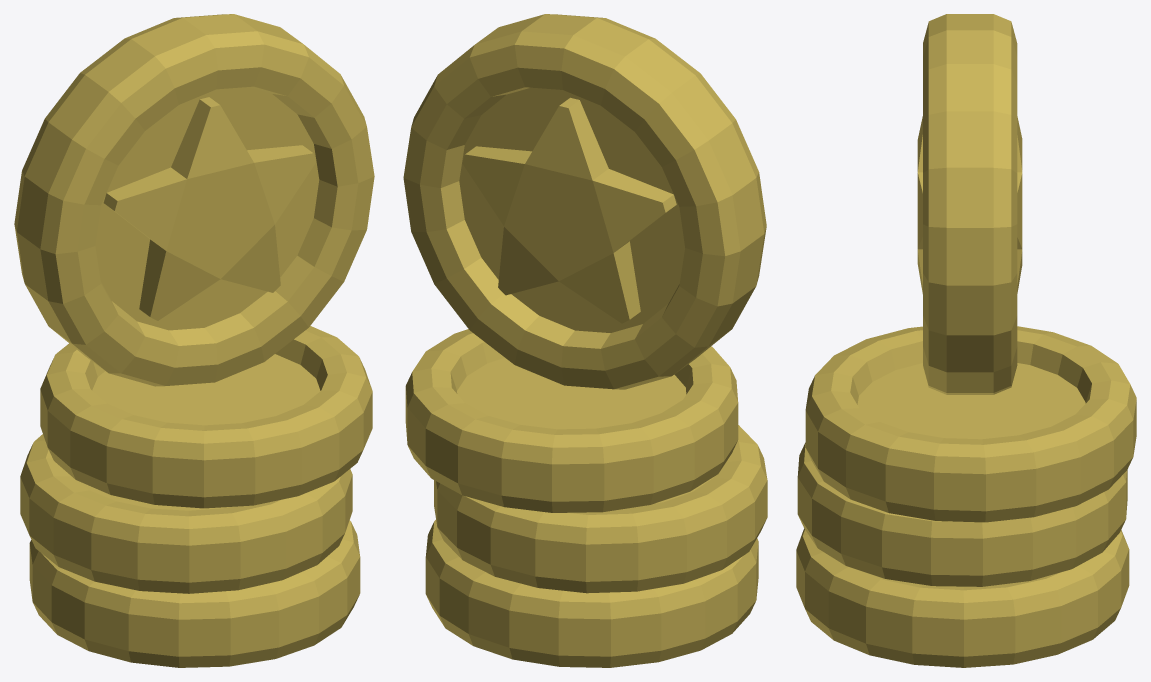
The model's file is pu_double.glb.
3 renders of one model, left to right at view 1: azimuth 30°, elevation 25°; view 2: azimuth 150°, elevation 25°; view 3: azimuth 270°, elevation 25°, orthographic.
Visible parts, largest first — view 1: pu_double; view 2: pu_double; view 3: pu_double.
Boxes of the visible parts, x1=… form: pu_double: x1=14, y1=14, x2=374, y2=667; pu_double: x1=403, y1=14, x2=767, y2=667; pu_double: x1=796, y1=14, x2=1136, y2=667.
Bounding box in the file's own units: 0.3 × 0.4972 × 0.2663.
